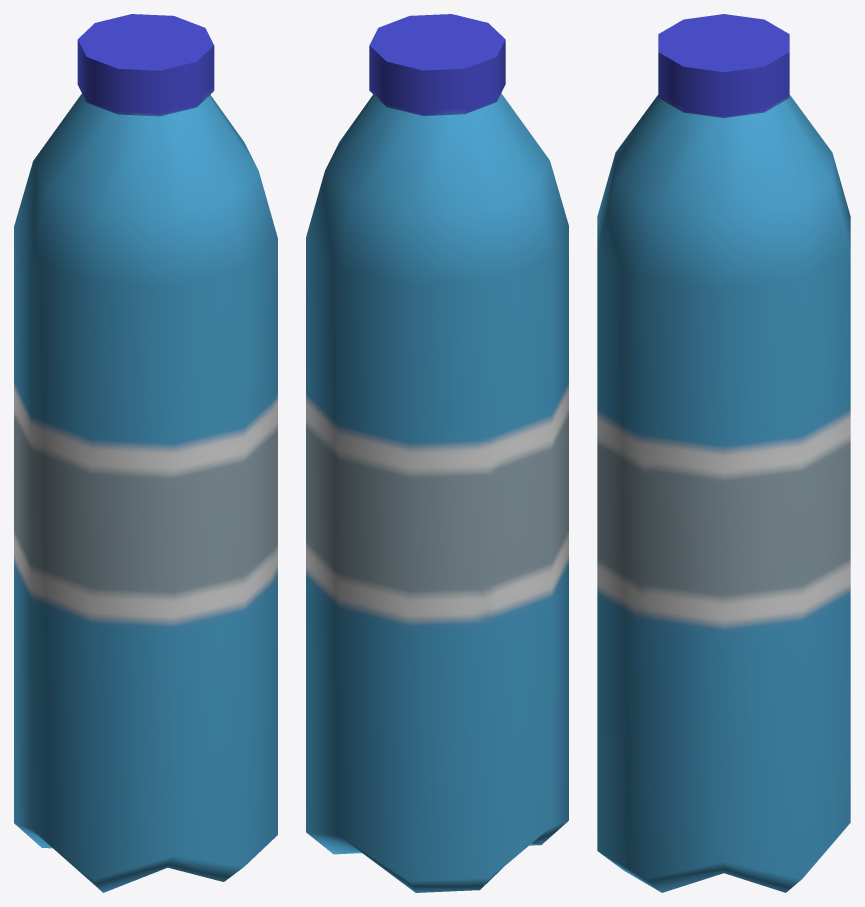
Rendered from Water.fbx.
The picture shows the model from 3 angles, left to right: view 1: azimuth 30°, elevation 25°; view 2: azimuth 150°, elevation 25°; view 3: azimuth 270°, elevation 25°; orthographic projection.
Parts seen in each view (by area): view 1: Water; view 2: Water; view 3: Water.
Boxes of the visible parts, box(x1,y1,x2,y2) form: Water: box(14, 14, 277, 892); Water: box(306, 14, 568, 892); Water: box(597, 14, 850, 892).
Size of the model in its own units: 5.93 by 20 by 5.64.
